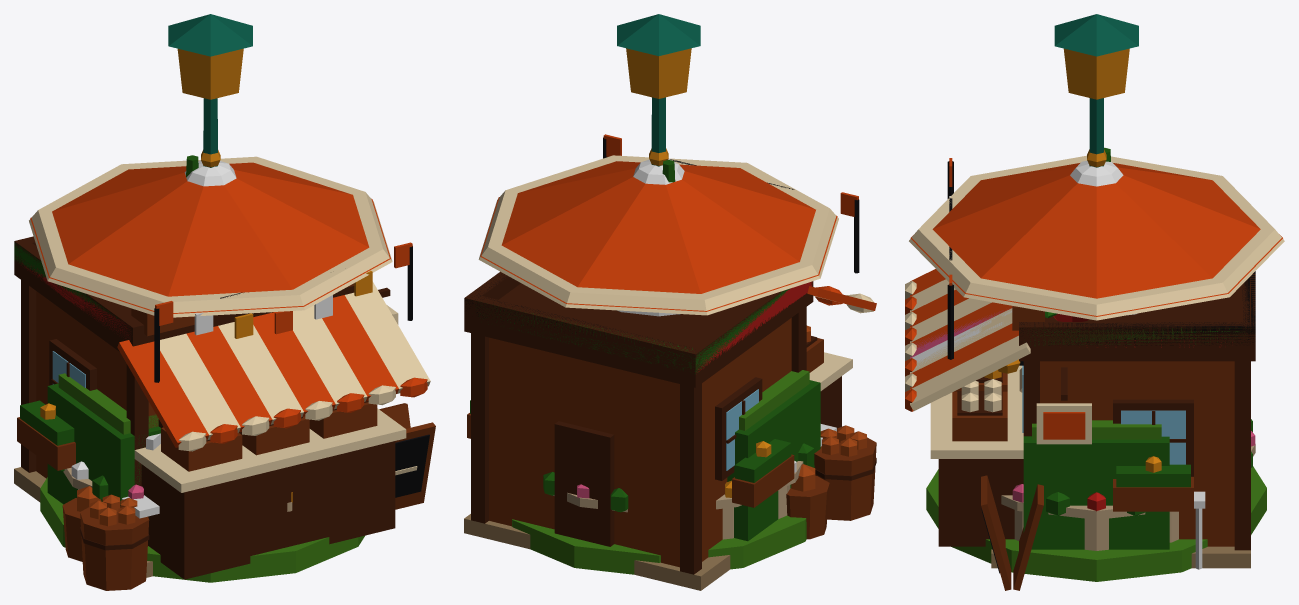
File: props.glb
3 views of the same model, side by side, from view 1: azimuth 30°, elevation 25°; view 2: azimuth 150°, elevation 25°; view 3: azimuth 270°, elevation 25° (orthographic).
Visible parts, largest first — view 1: prop_kiosk_bakery_lv0, deco_parasol, prop_kiosk_bakery_lv1, prop_kiosk_bakery_lv2, deco_hedge, deco_lamp, deco_statue, deco_fountain, prop_kiosk_flower_lv2, prop_kiosk_vegetable_lv2; view 2: prop_kiosk_bakery_lv0, deco_parasol, prop_kiosk_bakery_lv1, prop_kiosk_bakery_lv2, deco_statue, deco_hedge, deco_lamp, deco_fountain, prop_kiosk_vegetable_lv2, prop_kiosk_flower_lv2, prop_kiosk_cafe_lv2; view 3: prop_kiosk_bakery_lv0, deco_parasol, deco_hedge, deco_statue, prop_kiosk_bakery_lv2, deco_lamp, prop_kiosk_bakery_lv1, deco_fountain, prop_kiosk_cafe_lv2, prop_kiosk_flower_lv2, prop_kiosk_vegetable_lv2.
Part boxes in pixels (box(x1,y1,x2,y2)): prop_kiosk_bakery_lv0: box(14, 236, 430, 579); deco_parasol: box(29, 150, 392, 518); prop_kiosk_bakery_lv1: box(26, 242, 435, 590); prop_kiosk_bakery_lv2: box(14, 236, 412, 470); deco_hedge: box(47, 373, 160, 505); deco_lamp: box(168, 14, 252, 167); deco_statue: box(40, 160, 364, 582); deco_fountain: box(61, 461, 292, 511); prop_kiosk_flower_lv2: box(21, 262, 130, 339); prop_kiosk_vegetable_lv2: box(14, 155, 198, 318); prop_kiosk_bakery_lv0: box(464, 271, 876, 590); deco_parasol: box(478, 148, 838, 446); prop_kiosk_bakery_lv1: box(464, 281, 876, 539); prop_kiosk_bakery_lv2: box(467, 134, 859, 507); deco_statue: box(512, 159, 806, 574); deco_hedge: box(727, 370, 820, 541); deco_lamp: box(617, 14, 700, 166); deco_fountain: box(543, 314, 814, 539); prop_kiosk_vegetable_lv2: box(467, 160, 790, 373); prop_kiosk_flower_lv2: box(697, 281, 812, 372); prop_kiosk_cafe_lv2: box(464, 274, 689, 349); prop_kiosk_bakery_lv0: box(905, 269, 1255, 568); deco_parasol: box(909, 149, 1284, 569); deco_hedge: box(1023, 420, 1169, 549); deco_statue: box(926, 161, 1266, 581); prop_kiosk_bakery_lv2: box(916, 158, 1219, 511); deco_lamp: box(1054, 14, 1138, 167); prop_kiosk_bakery_lv1: box(981, 322, 1220, 590); deco_fountain: box(1001, 368, 1255, 550); prop_kiosk_cafe_lv2: box(1020, 271, 1255, 345); prop_kiosk_flower_lv2: box(910, 308, 1232, 368); prop_kiosk_vegetable_lv2: box(1024, 147, 1250, 345).
Bounding box in the file's own units: 2.41 × 3.38 × 2.34.
